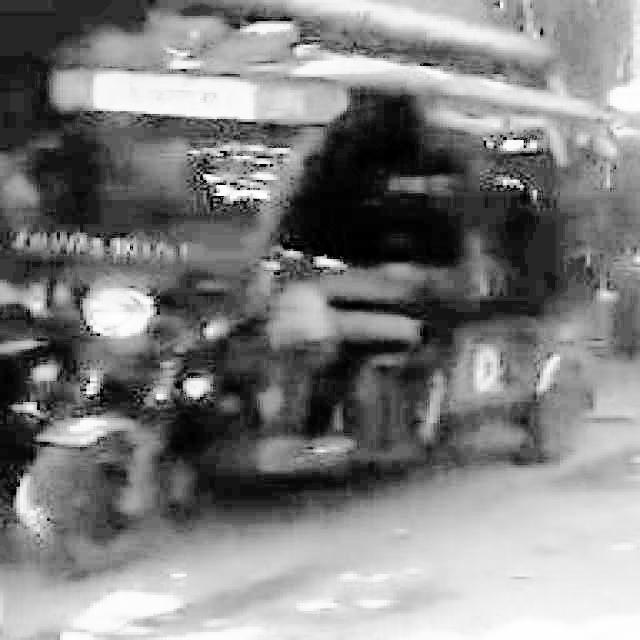Toto: (18, 32, 627, 540)
